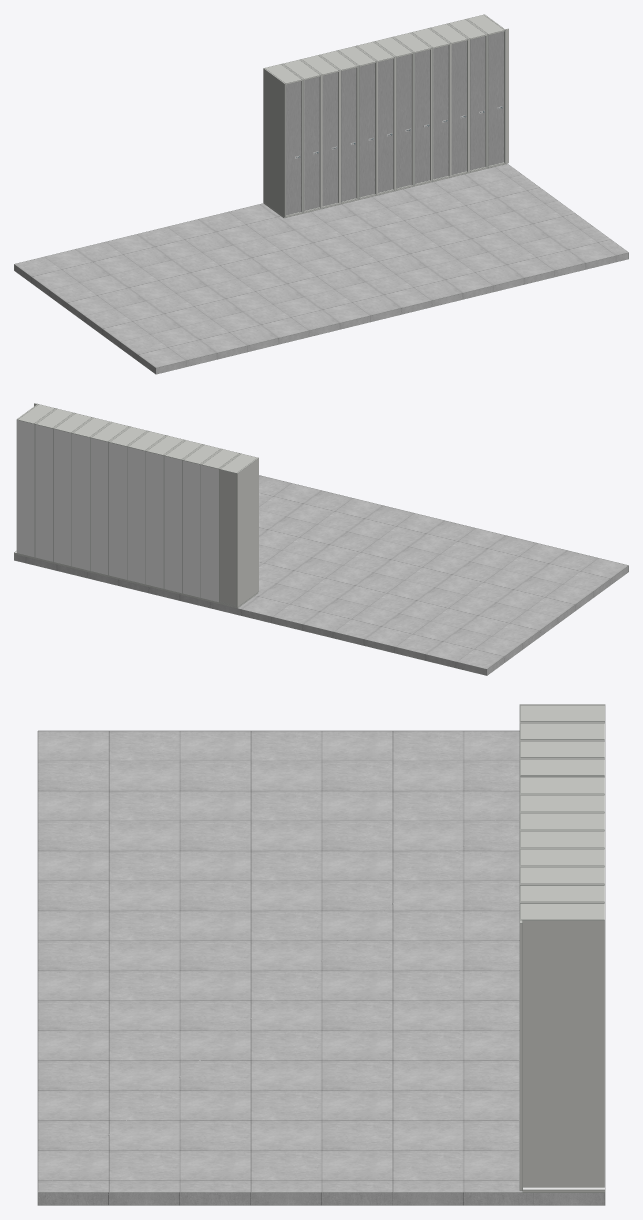
The model's file is modell.glb.
3 views of the same model, one above another, from view 1: azimuth 30°, elevation 25°; view 2: azimuth 150°, elevation 25°; view 3: azimuth 270°, elevation 25° (orthographic). The views are drawn at different scales.
Bounding box in the file's own units: 7713 × 2203 × 4003.
11 materials, 4 textured.
